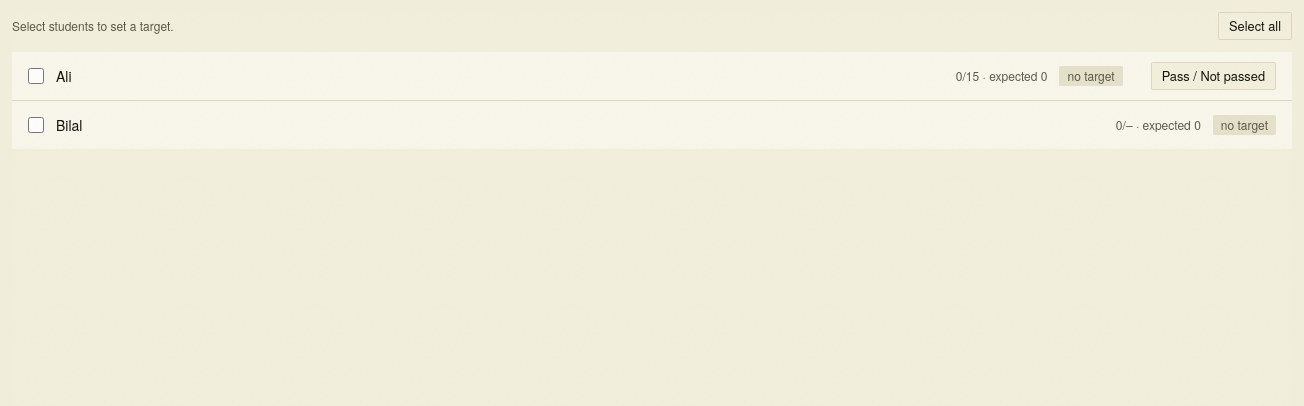
HifzRegister — Up to opens on the current target › shows one student's own target, ready to save as it is
Step 1. Click the checkbox named "Select Ali" → (36, 76), box 28,68 -> 44,84
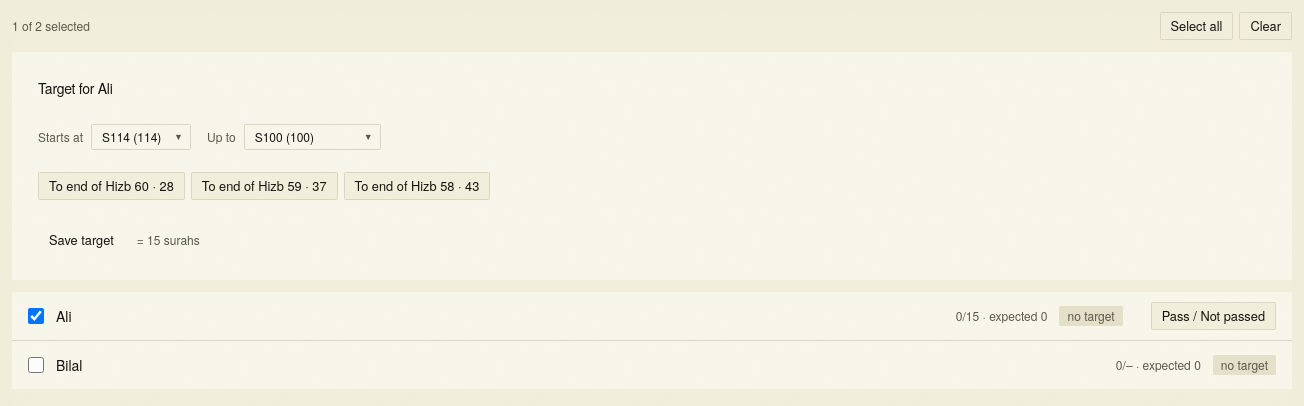
Now the button "Save target" is enabled, box 38,226 -> 125,254
